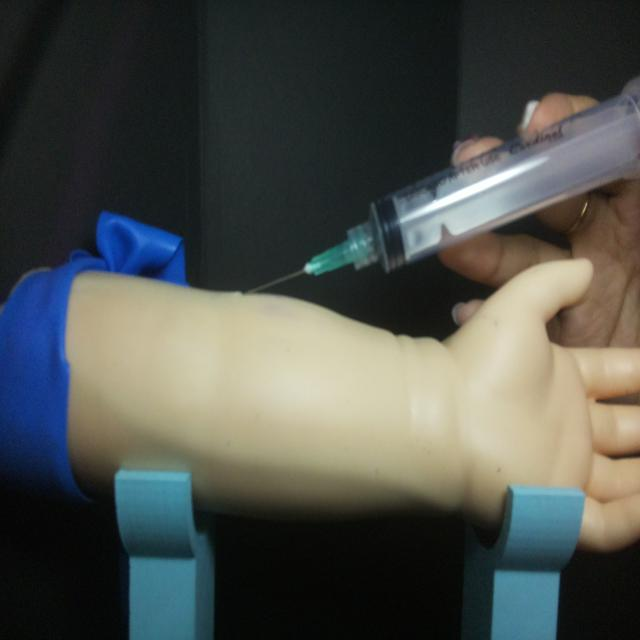19deg: (240, 84, 638, 299)
